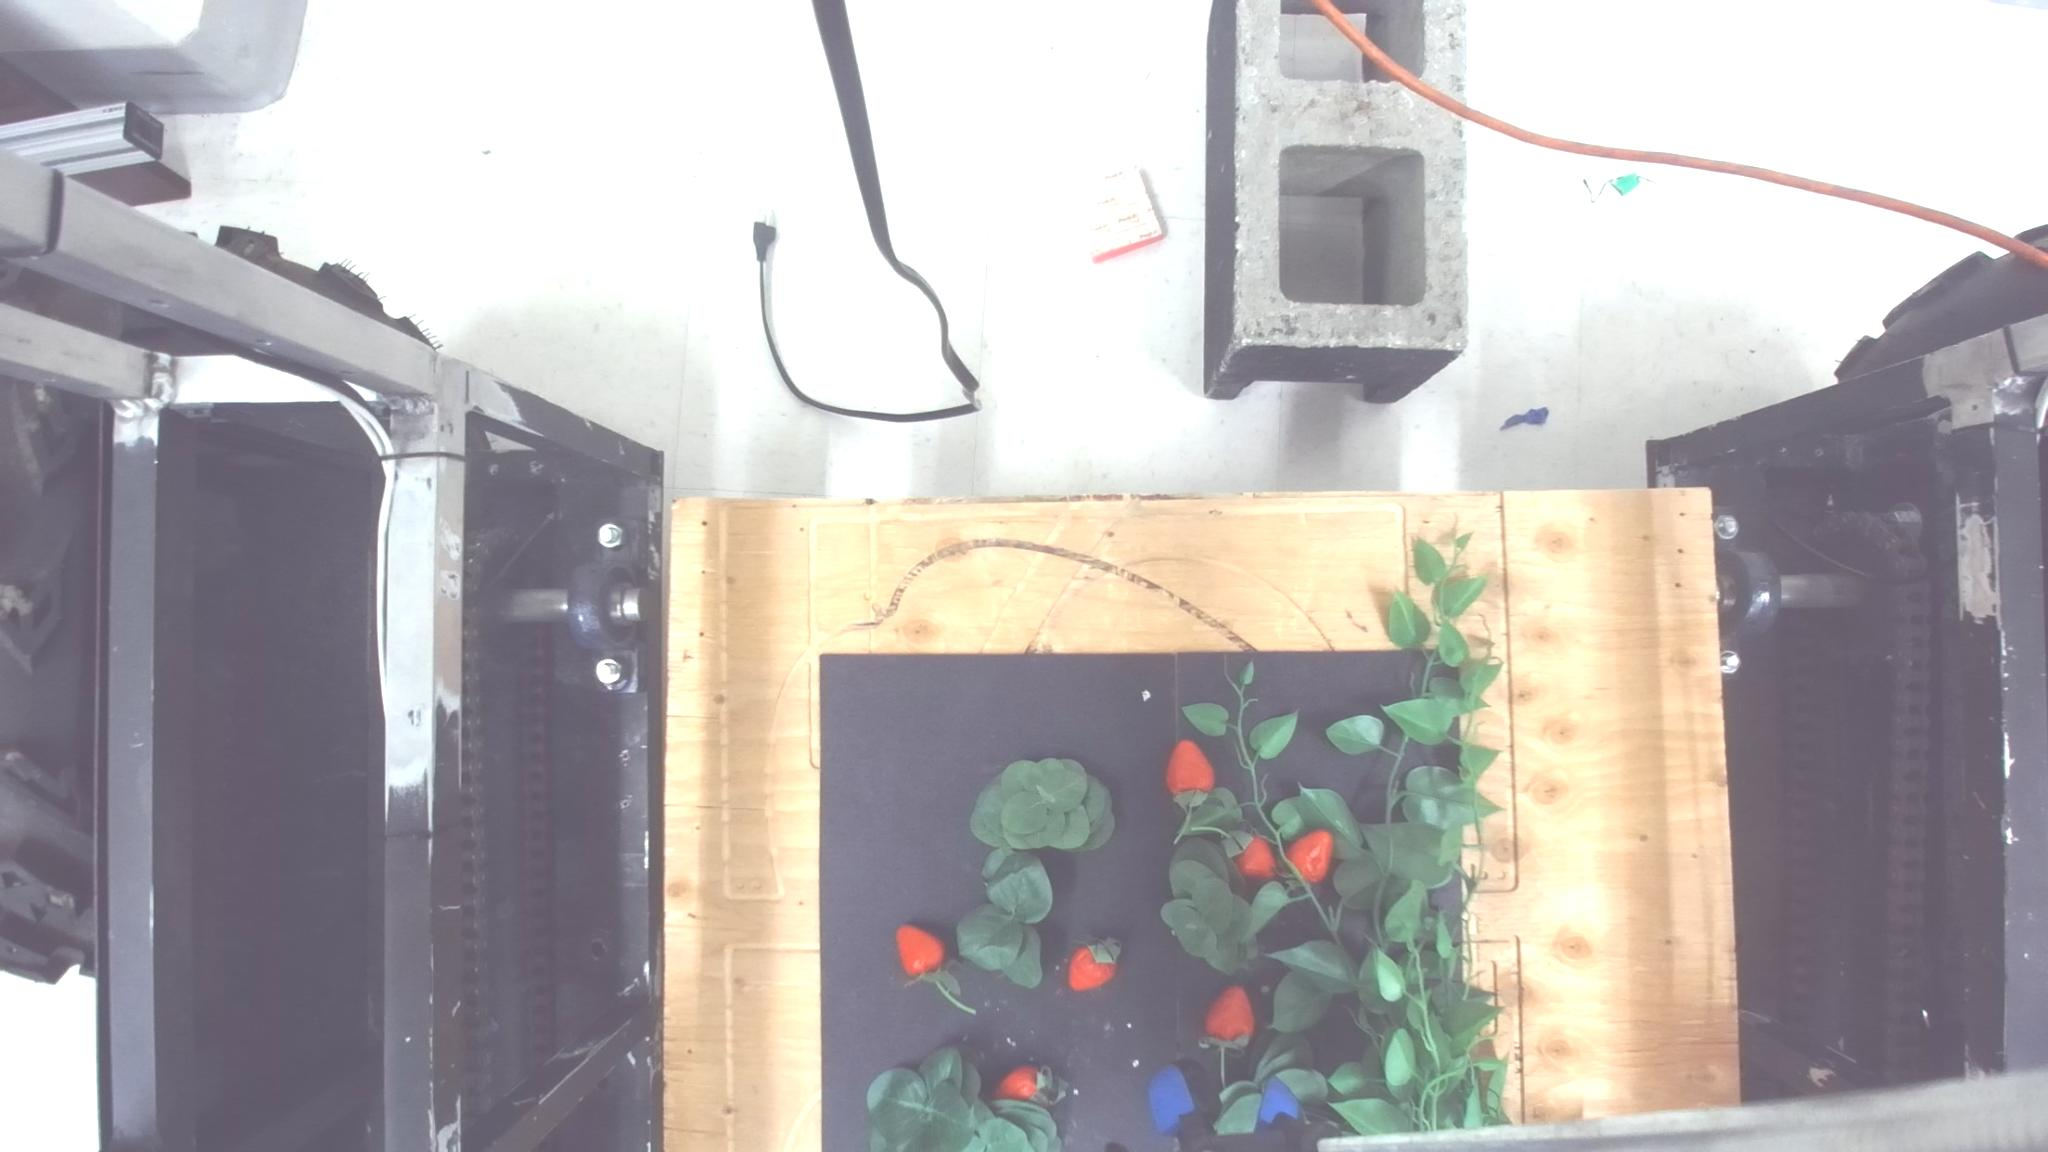strawberry: (1197, 983, 1255, 1051), (1165, 738, 1215, 807), (1066, 935, 1120, 992), (993, 1063, 1061, 1107), (1284, 828, 1333, 883), (895, 923, 944, 978), (1234, 834, 1277, 882)
